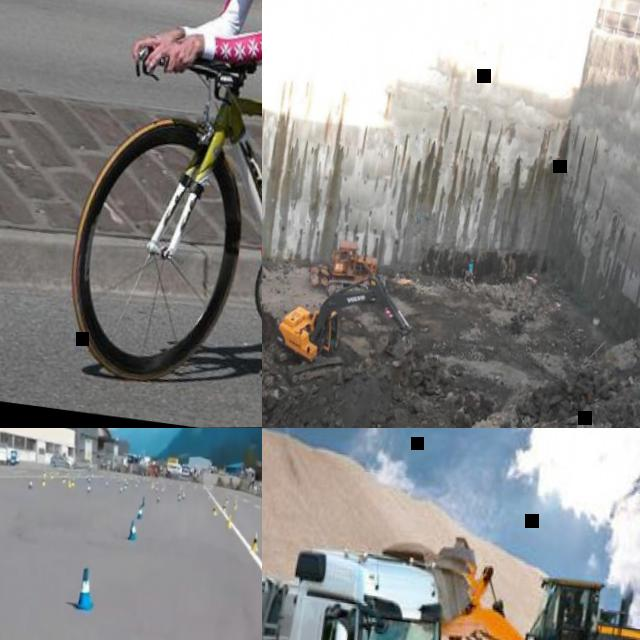Hardhat: (470, 259, 474, 263)
Person: (105, 0, 262, 278), (466, 257, 475, 278)
Safety Cone: (71, 564, 99, 614), (126, 517, 139, 543), (248, 530, 261, 555), (224, 512, 234, 531), (135, 505, 145, 520), (211, 504, 218, 518), (26, 478, 33, 492), (232, 498, 237, 511), (221, 503, 226, 515), (86, 485, 91, 497), (181, 490, 186, 501), (176, 493, 181, 504), (118, 487, 123, 497), (67, 481, 72, 490), (156, 494, 160, 505), (70, 477, 74, 488), (41, 478, 45, 487)
Safety Vest: (467, 264, 473, 274)
vehicle: (354, 519, 640, 640), (262, 504, 457, 640), (265, 263, 422, 400), (323, 238, 391, 302)
